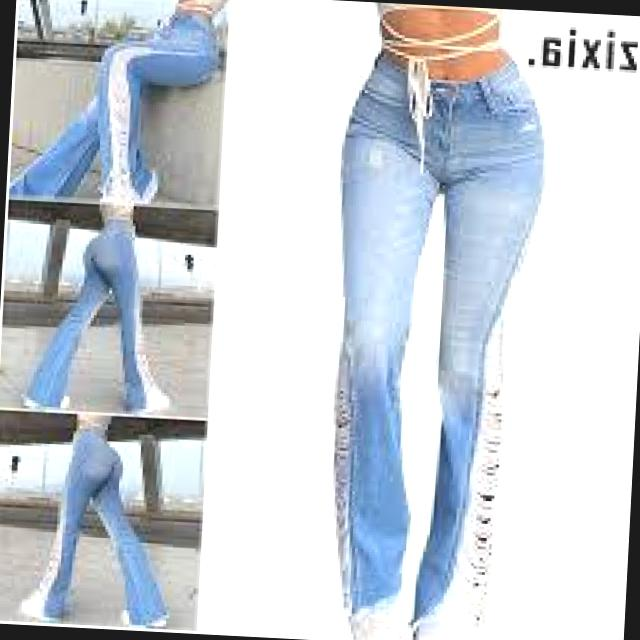pants: (314, 39, 550, 626), (15, 1, 224, 202), (28, 212, 178, 416), (24, 429, 176, 621)
